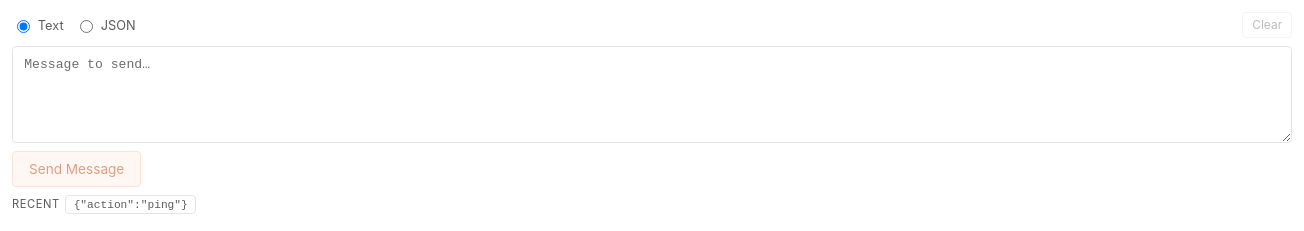
Test: MessageComposer — history › reloads a previous message into the draft
Click the button "{\"action\":\"ping\"}".
click(131, 205)  # box top-left (65, 195), bottom-right (196, 214)
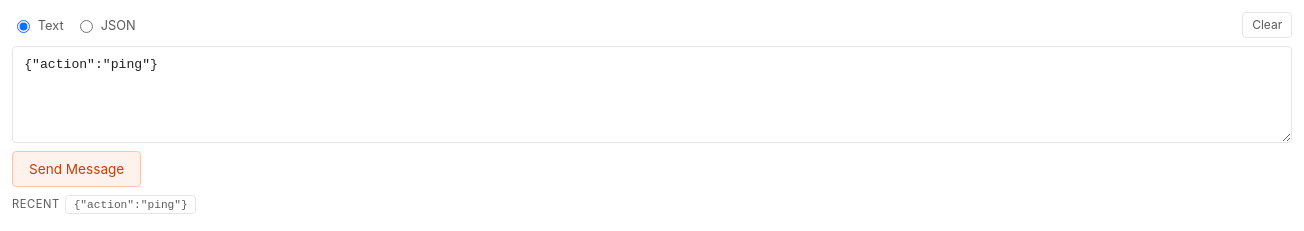
Check: the text box holds "{\"action\":\"ping\"}", box top-left (12, 46), bottom-right (1292, 143)
